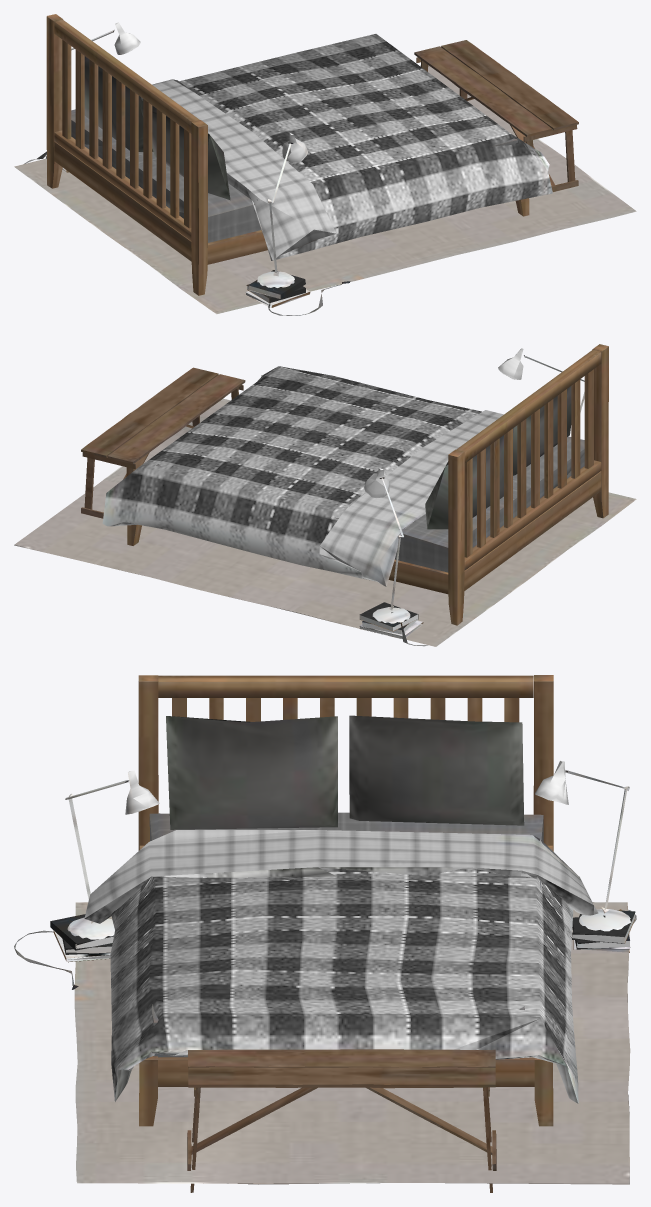
The model's file is Bed0002.obj.
3 renders of one model, top to bottom at view 1: azimuth 30°, elevation 25°; view 2: azimuth 150°, elevation 25°; view 3: azimuth 270°, elevation 25°, orthographic. The views are drawn at different scales.
Bounding box in the file's own units: 2.66 × 1.12 × 2.49.
Materials: 1 (1 with a texture image).
